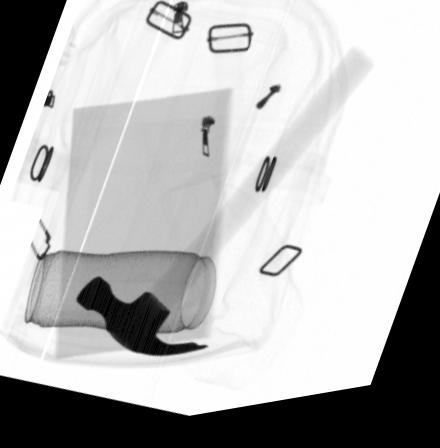Hammer: (73, 61, 374, 361)
